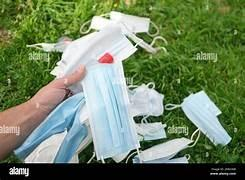Mask: (82, 61, 139, 160), (15, 93, 86, 159), (51, 26, 136, 77), (80, 11, 166, 53), (165, 91, 230, 144), (133, 129, 199, 162), (54, 104, 87, 162), (80, 11, 149, 33), (24, 131, 66, 162), (69, 105, 91, 162), (140, 137, 192, 161), (124, 24, 166, 53), (128, 83, 163, 116), (110, 11, 149, 32), (89, 16, 127, 34), (27, 37, 71, 51), (135, 122, 165, 140), (133, 156, 187, 163), (112, 151, 130, 163)
